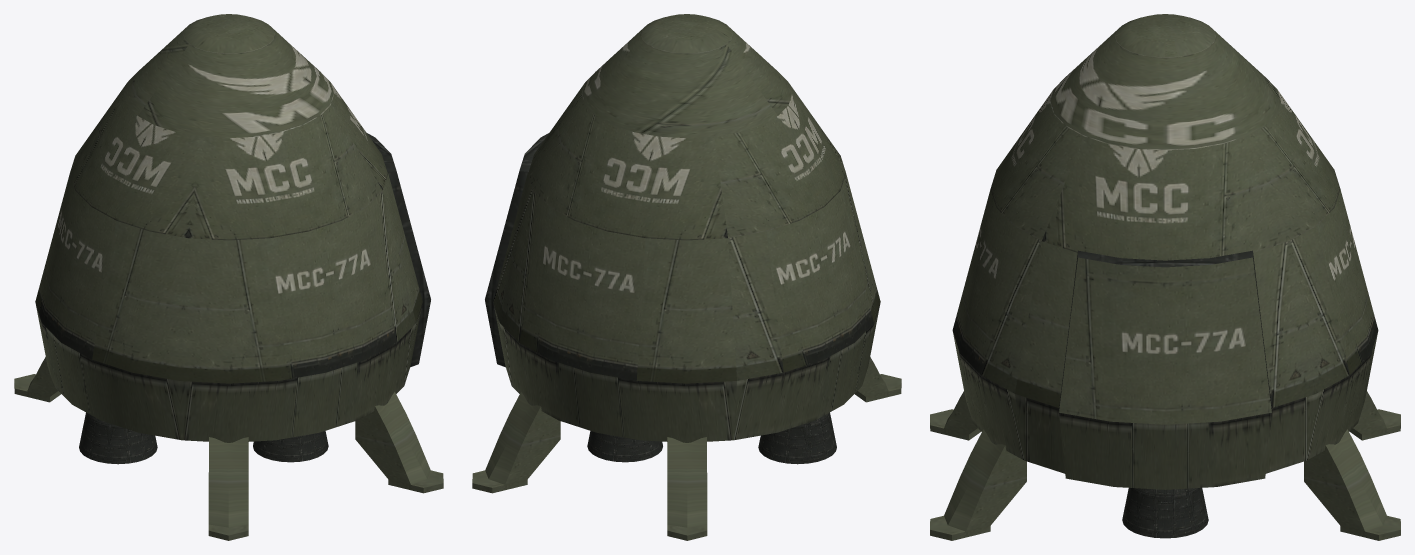
Rendered from drop_pod.dae.
The picture shows the model from 3 angles, left to right: view 1: azimuth 30°, elevation 25°; view 2: azimuth 150°, elevation 25°; view 3: azimuth 270°, elevation 25°; orthographic projection. The views are drawn at different scales.
Visible parts, largest first — view 1: drop_pod; view 2: drop_pod; view 3: drop_pod.
Part boxes in pixels (x1,y1,x2,y2): drop_pod: [14, 14, 443, 540]; drop_pod: [472, 14, 901, 540]; drop_pod: [930, 14, 1400, 540].
Bounding box in the file's own units: 6.47 × 6.98 × 7.35.
